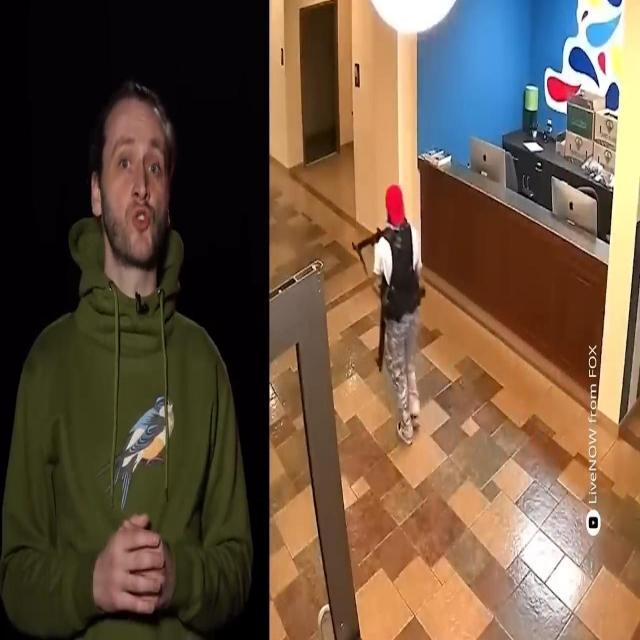pistol: (371, 288, 394, 379), (354, 227, 392, 266)
